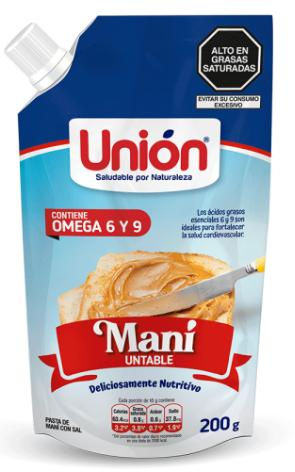brand: (69, 124, 219, 173)
net_weight: (197, 412, 247, 437)
product_name: (91, 321, 204, 367)
